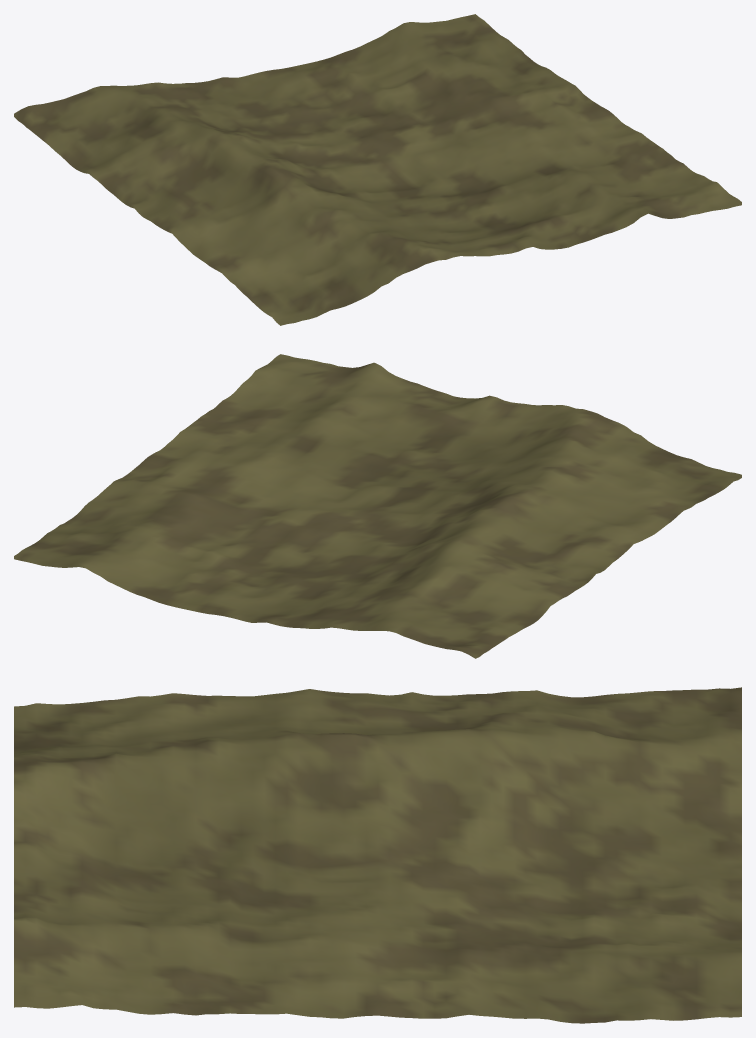
Rendered from land_f_02_10.glb.
The picture shows the model from 3 angles, top to bottom: view 1: azimuth 30°, elevation 25°; view 2: azimuth 150°, elevation 25°; view 3: azimuth 270°, elevation 25°; orthographic projection. The views are drawn at different scales.
Parts seen in each view (by area): view 1: land_f_02_10; view 2: land_f_02_10; view 3: land_f_02_10.
Boxes of the visible parts, x1,y1,x2,y2 form: land_f_02_10: (14,14,741,325); land_f_02_10: (14,354,741,658); land_f_02_10: (14,687,741,1023).
Bounding box in the file's own units: 3840 × 364 × 3840.
